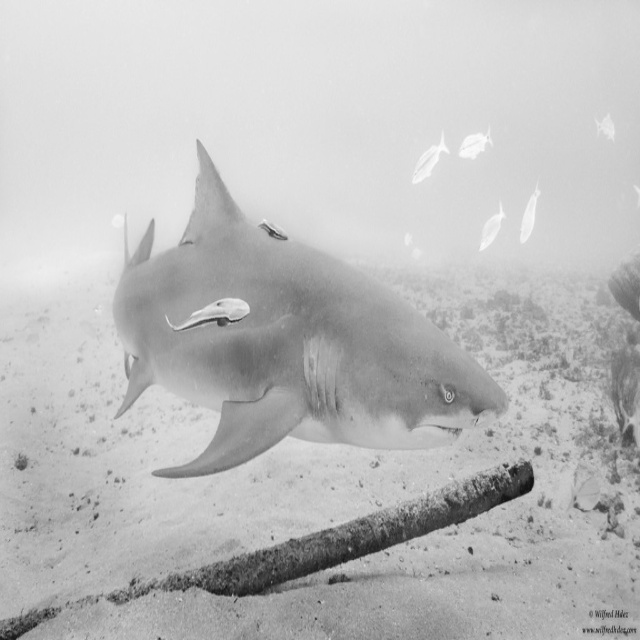Shark: (109, 142, 512, 476)
